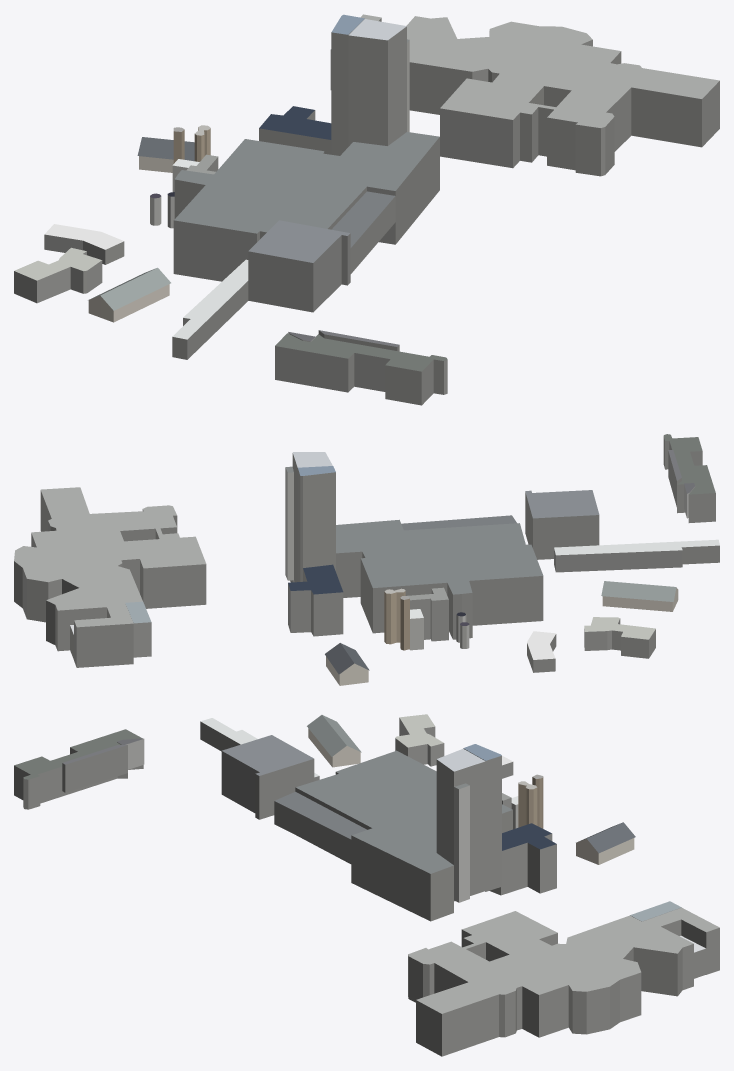
The picture shows the model from 3 angles, top to bottom: view 1: azimuth 30°, elevation 25°; view 2: azimuth 150°, elevation 25°; view 3: azimuth 270°, elevation 25°; orthographic projection. The views are drawn at different scales.
Visible parts, largest first — view 1: tuile; view 2: tuile; view 3: tuile.
Part boxes in pixels (x1=…): tuile: x1=14, y1=14, x2=719, y2=405; tuile: x1=14, y1=434, x2=719, y2=685; tuile: x1=14, y1=714, x2=719, y2=1056.
Size of the model in its own units: 216 by 50.06 by 209.
